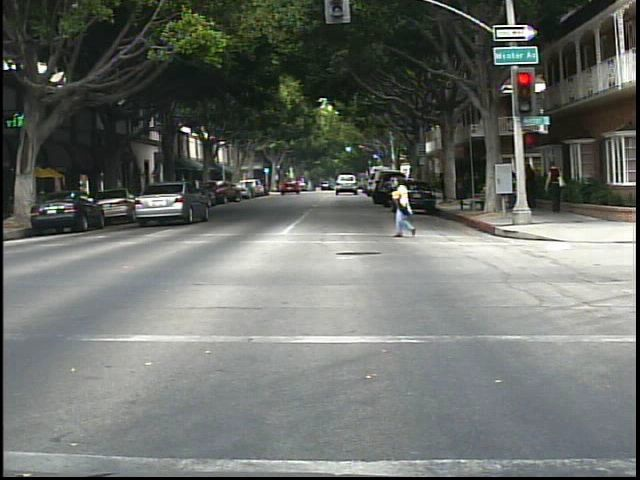person: (387, 173, 424, 241), (544, 158, 569, 219), (522, 158, 545, 216)
